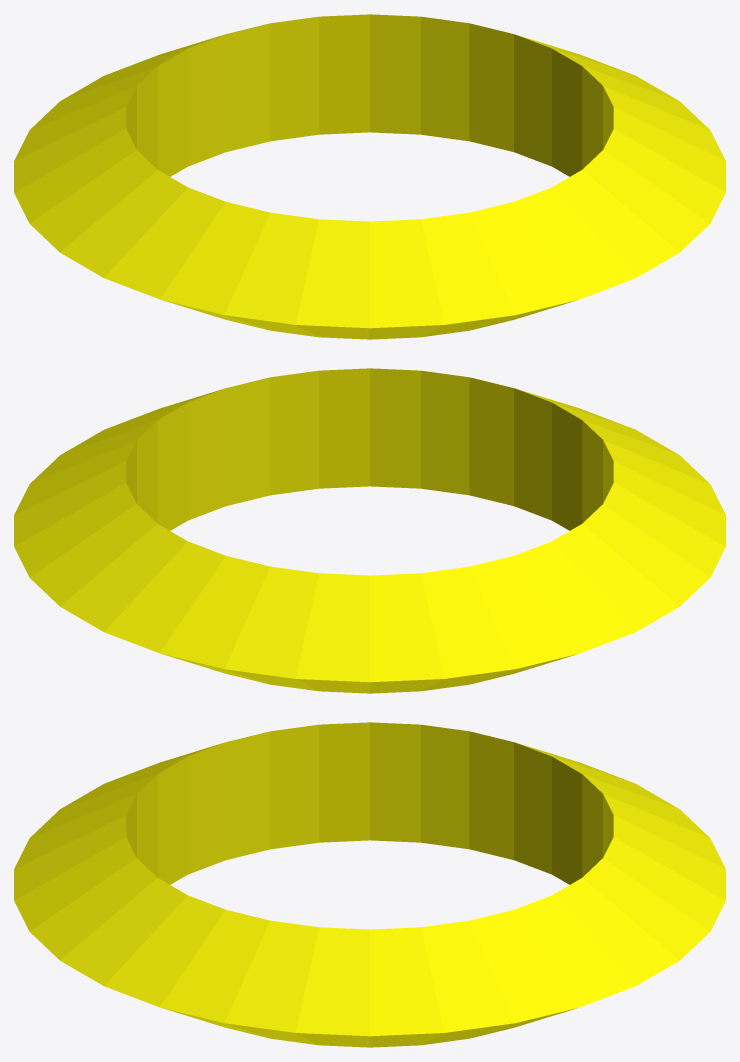
Rendered from frisbee.fbx.
3 renders of one model, top to bottom at view 1: azimuth 30°, elevation 25°; view 2: azimuth 150°, elevation 25°; view 3: azimuth 270°, elevation 25°, orthographic.
Visible parts, largest first — view 1: Torus.001; view 2: Torus.001; view 3: Torus.001.
Boxes of the visible parts, x1,y1,x2,y2 form: Torus.001: (14,14,725,339); Torus.001: (14,368,725,693); Torus.001: (14,722,725,1047).
Size of the model in its own units: 276 by 50.23 by 274.
1 material, 1 textured.
